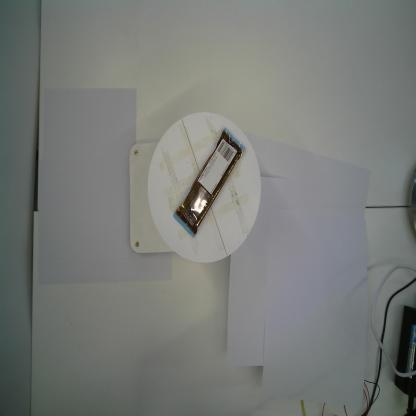Chocolate: (172, 127, 247, 239)
